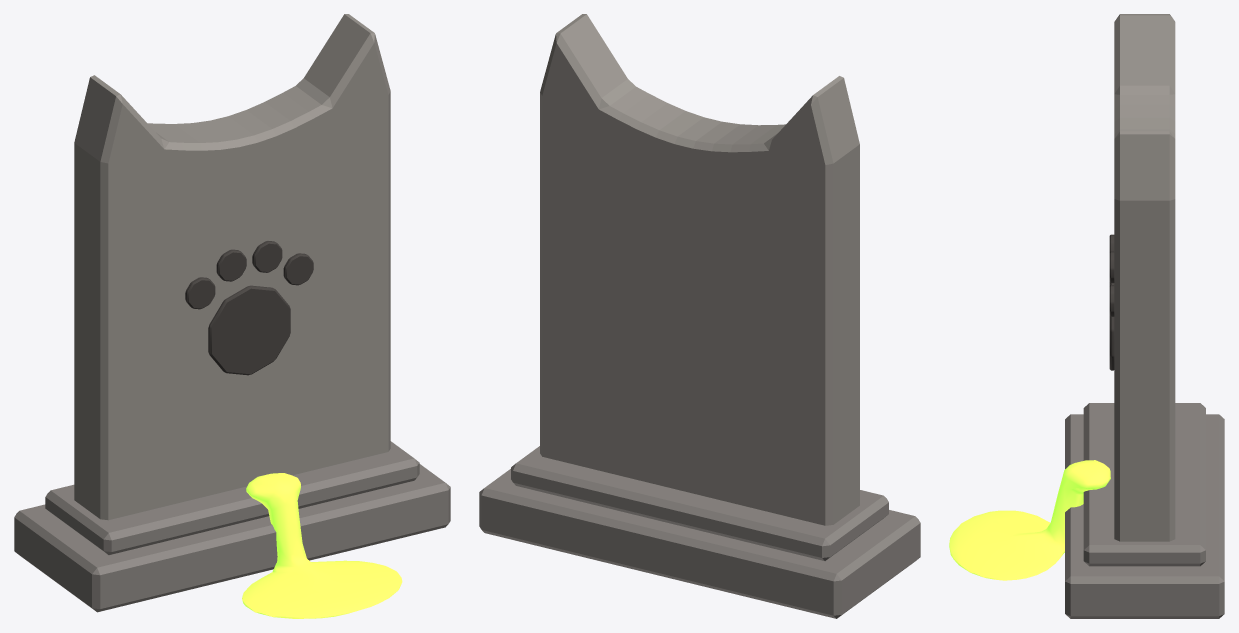
The model's file is zc_tombstone_cat.mobile-low.glb.
3 renders of one model, left to right at view 1: azimuth 30°, elevation 25°; view 2: azimuth 150°, elevation 25°; view 3: azimuth 270°, elevation 25°, orthographic. The views are drawn at different scales.
Visible parts, largest first — view 1: zc_tombstone_cat, blob1; view 2: zc_tombstone_cat; view 3: zc_tombstone_cat, blob1.
Part boxes in pixels (x1,y1,x2,y2): zc_tombstone_cat: (14, 14, 450, 612); blob1: (242, 473, 402, 618); zc_tombstone_cat: (479, 14, 920, 618); zc_tombstone_cat: (1065, 14, 1224, 618); blob1: (949, 460, 1110, 580).
Bounding box in the file's own units: 0.84 × 1.11 × 0.5863.
1 material, 1 textured.
